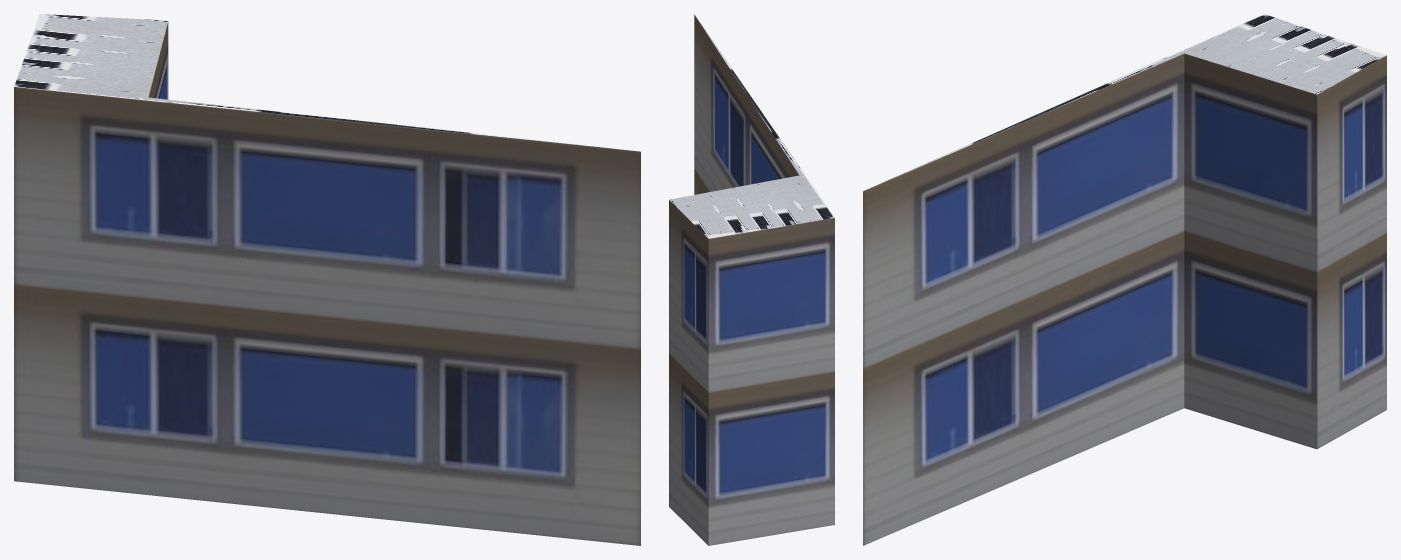
The model's file is ResTex__2122.fbx.
3 views of the same model, side by side, from view 1: azimuth 30°, elevation 25°; view 2: azimuth 150°, elevation 25°; view 3: azimuth 270°, elevation 25° (orthographic). The views are drawn at different scales.
Parts seen in each view (by area): view 1: CityEngineMaterial_23_m, CityEngineMaterial_4_m; view 2: CityEngineMaterial_23_m, CityEngineMaterial_4_m; view 3: CityEngineMaterial_23_m, CityEngineMaterial_4_m.
Part boxes in pixels (left/top/right/bottom): CityEngineMaterial_23_m: left=14, top=22, right=640, bottom=545; CityEngineMaterial_4_m: left=14, top=14, right=630, bottom=150; CityEngineMaterial_23_m: left=669, top=14, right=834, bottom=545; CityEngineMaterial_4_m: left=669, top=17, right=834, bottom=238; CityEngineMaterial_23_m: left=863, top=53, right=1386, bottom=545; CityEngineMaterial_4_m: left=873, top=14, right=1386, bottom=186.
Bounding box in the file's own units: 6.43 × 6 × 8.03.
Materials: 2 (2 with a texture image).
